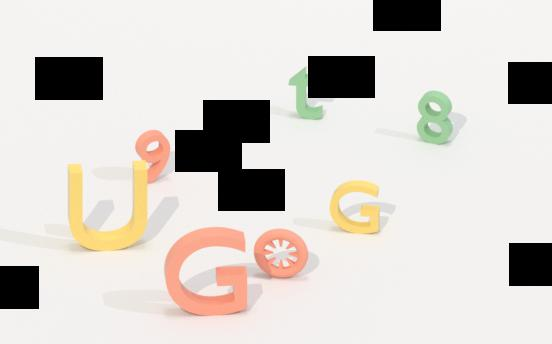8: (415, 85, 455, 148)
9: (134, 126, 171, 187)
G-hoa: (164, 220, 251, 318), (327, 176, 384, 238)
t: (286, 63, 328, 124)
tron: (254, 225, 310, 283)
u: (64, 158, 152, 257)
